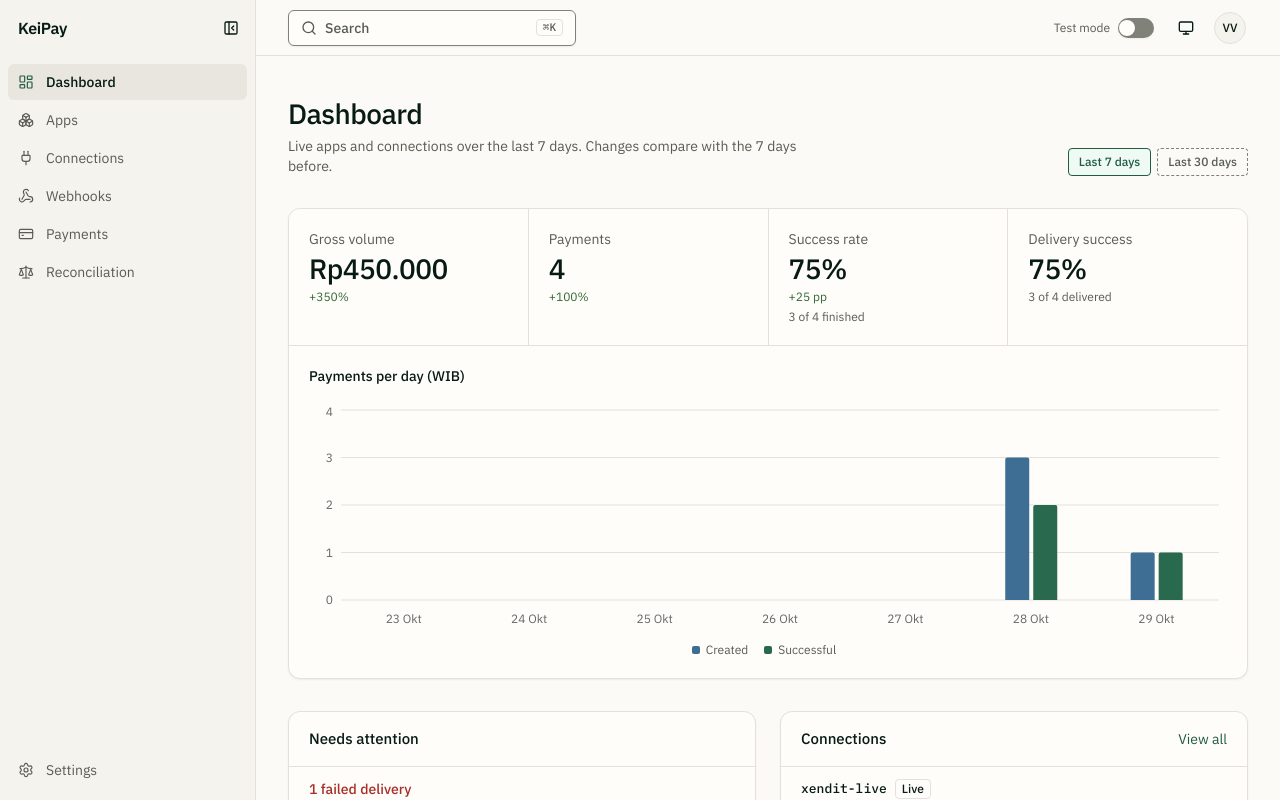
Test: App shell › shows the user's name, email and role in the user menu
What coordinates should you click on to do the following:
click the button with aria-label "Account menu"
I would click on:
 (1230, 28)
Its box is [1212,10,1248,46].
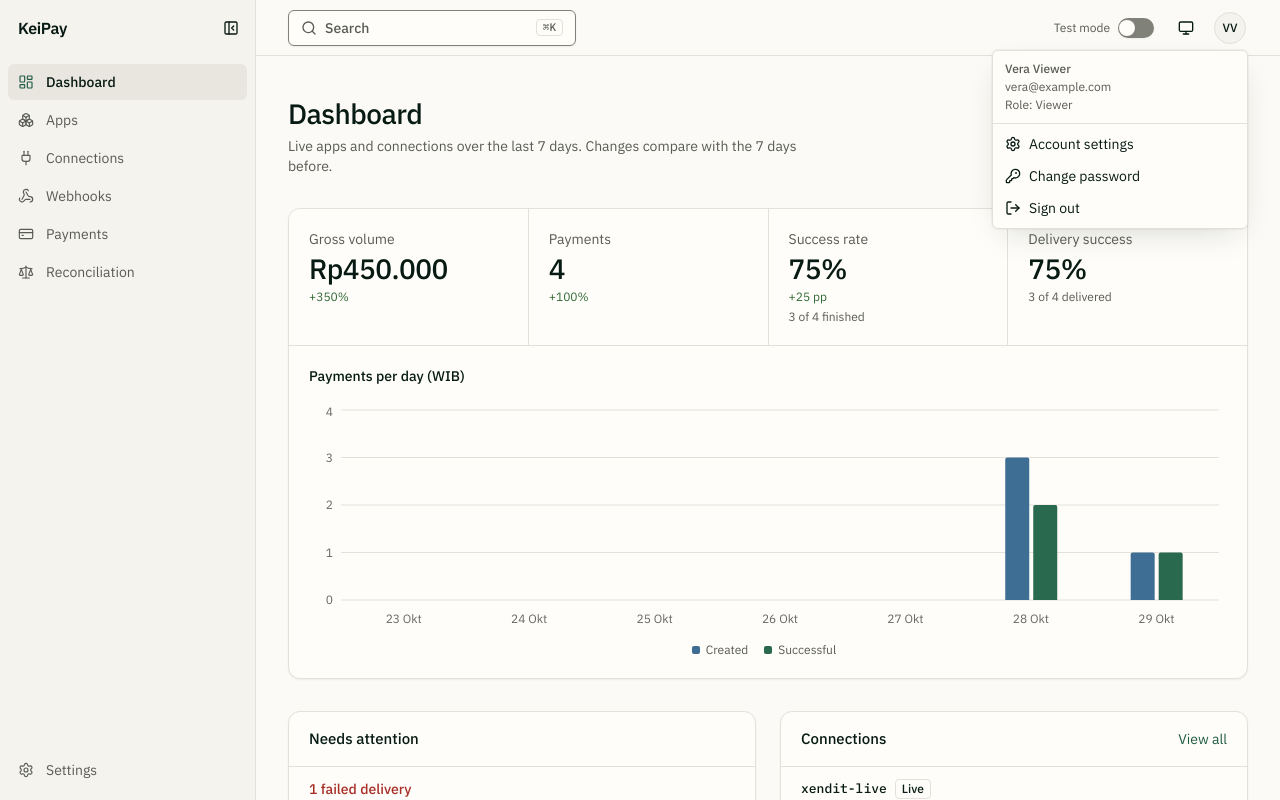
Check: the element with test id "user-menu-identity" shows "Vera Viewer", box [1005,61,1071,76]
Check: the element with test id "user-menu-identity" shows "vera@example.com", box [1005,79,1111,94]
Check: the element with test id "user-menu-identity" shows "Role: Viewer", box [1005,97,1072,112]
